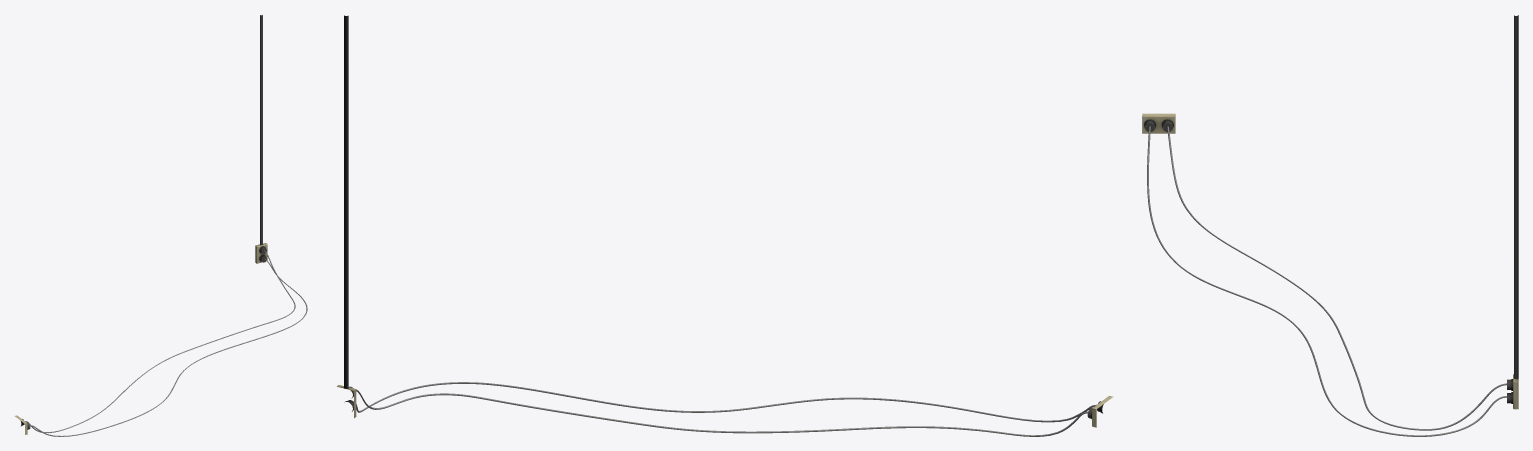
3 renders of one model, left to right at view 1: azimuth 30°, elevation 25°; view 2: azimuth 150°, elevation 25°; view 3: azimuth 270°, elevation 25°, orthographic. The views are drawn at different scales.
Visible parts, largest first — view 1: body0_model0_lod0_mesh0; view 2: body0_model0_lod0_mesh0; view 3: body0_model0_lod0_mesh0.
Part boxes in pixels (x1,y1,x2,y2): body0_model0_lod0_mesh0: [14, 15, 307, 436]; body0_model0_lod0_mesh0: [337, 15, 1113, 436]; body0_model0_lod0_mesh0: [1142, 15, 1518, 436].
Size of the model in its own units: 470 by 324 by 266.
Materials: 1 (1 with a texture image).
